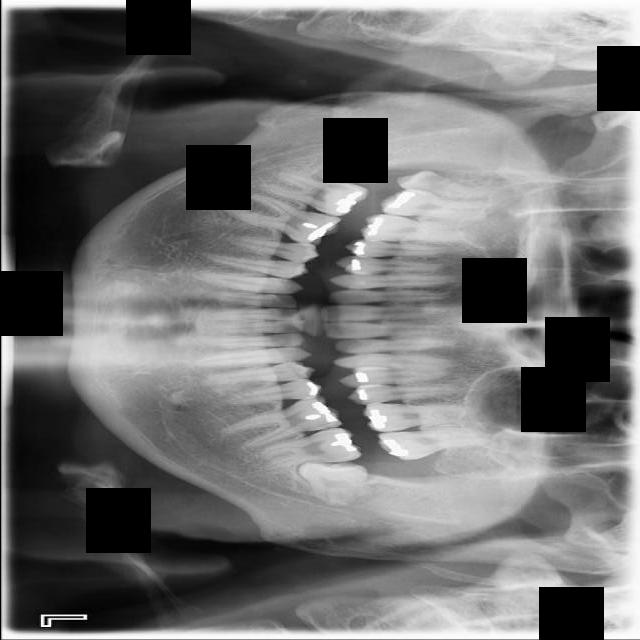3M ESPE Implant: (393, 165, 507, 207)
52: (307, 167, 371, 231), (282, 382, 346, 445), (282, 198, 345, 259), (305, 417, 365, 476), (376, 430, 438, 462), (357, 212, 417, 245), (360, 401, 416, 434), (378, 188, 439, 217), (338, 364, 393, 390), (342, 236, 392, 261), (346, 384, 393, 406), (278, 379, 321, 400), (334, 255, 377, 276), (422, 173, 445, 182), (328, 183, 349, 190)
73: (80, 604, 94, 614)
BioHorizons Implant: (376, 423, 500, 464)
Biomet 3i Implant: (296, 459, 367, 508)
Blue Sky Bio Implant: (255, 424, 363, 474)
Caries: (378, 186, 502, 225)
Implant: (257, 166, 369, 223)
Keystone Dental Implant: (321, 143, 383, 186)
